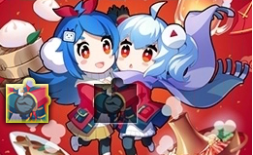gap: (95, 78, 138, 123)
